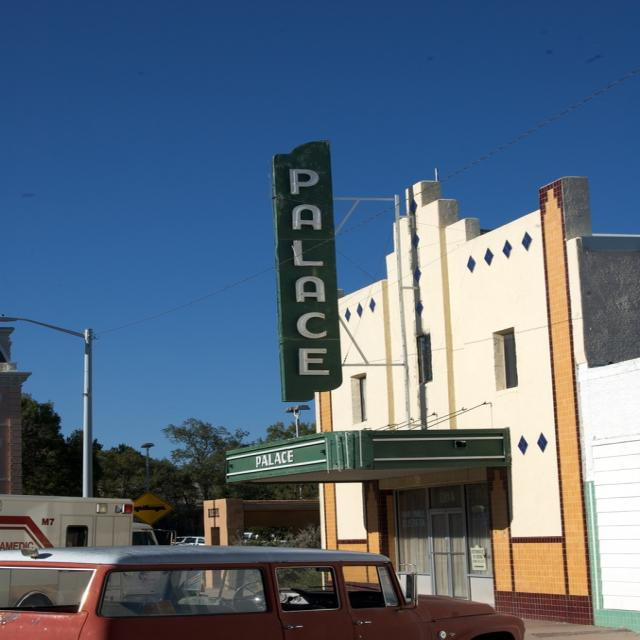car: (9, 545, 515, 639)
